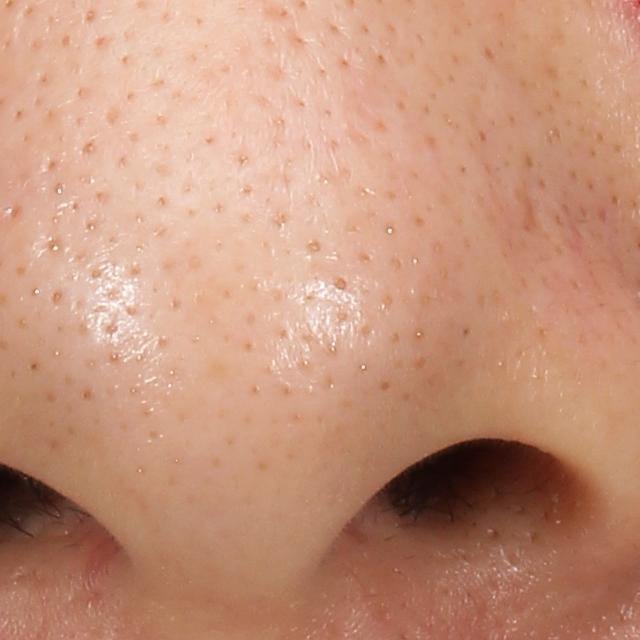atrophic_scar: (513, 182, 544, 237)
comedo: (298, 235, 323, 258)
